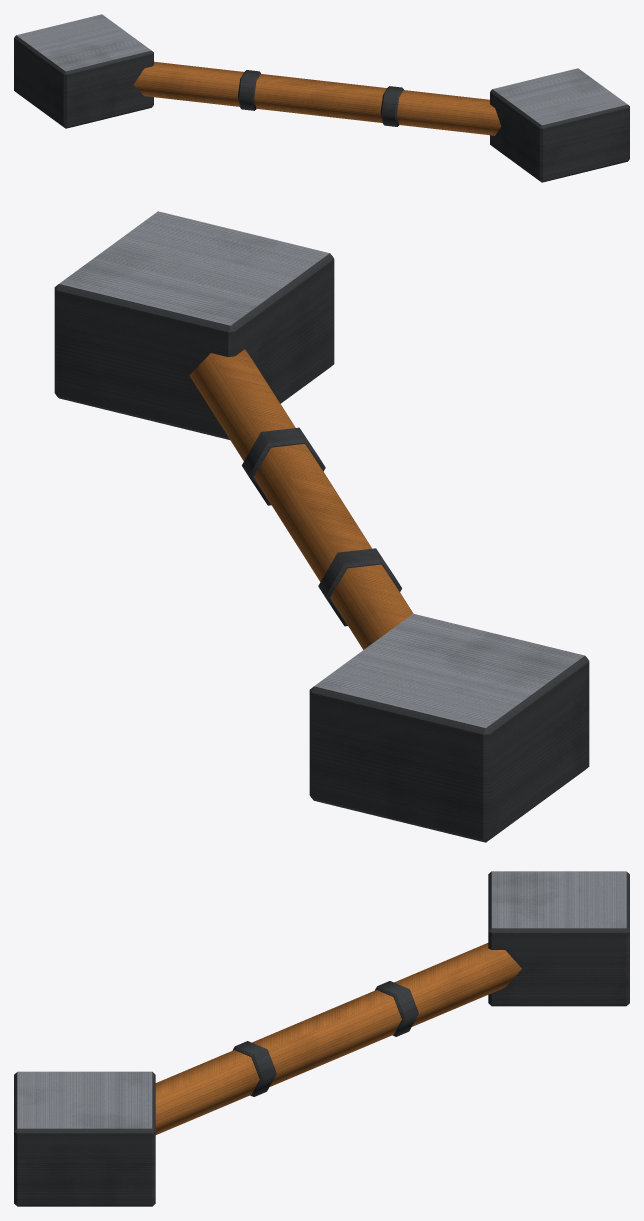
File: R4C_ROD_DIAG_2D_LONG_LOD1.glb
3 renders of one model, top to bottom at view 1: azimuth 30°, elevation 25°; view 2: azimuth 150°, elevation 25°; view 3: azimuth 270°, elevation 25°, orthographic. The views are drawn at different scales.
Visible parts, largest first — view 1: R4C_ROD_DIAG_2D_LONG_LOD1; view 2: R4C_ROD_DIAG_2D_LONG_LOD1; view 3: R4C_ROD_DIAG_2D_LONG_LOD1.
Boxes of the visible parts, bbox=[...] form: R4C_ROD_DIAG_2D_LONG_LOD1: bbox=[14, 14, 629, 182]; R4C_ROD_DIAG_2D_LONG_LOD1: bbox=[54, 211, 589, 842]; R4C_ROD_DIAG_2D_LONG_LOD1: bbox=[14, 871, 629, 1206].
Size of the model in its own units: 1.62 by 0.226 by 1.62.
Materials: 3 (3 with a texture image).
